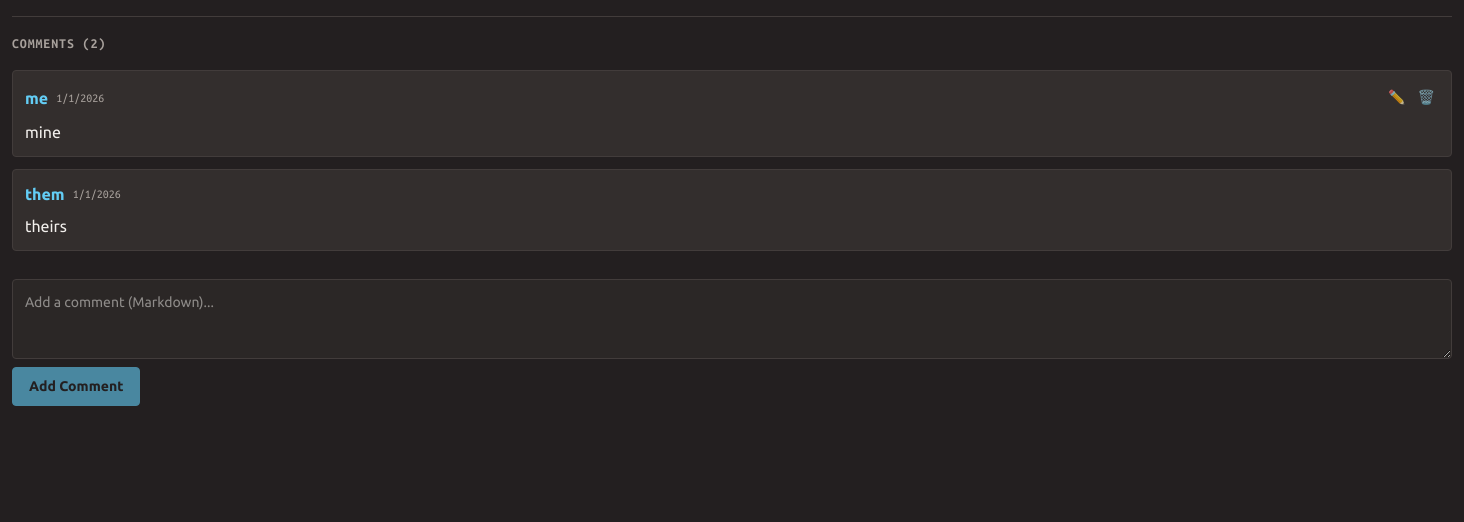
Test: Comments › adds a created comment to the list and tells the parent
Step 1. Type " hello " into the text box with placeholder "Add a comment (Markdown)..." → (732, 319), box x1=12 y1=279 x2=1452 y2=359
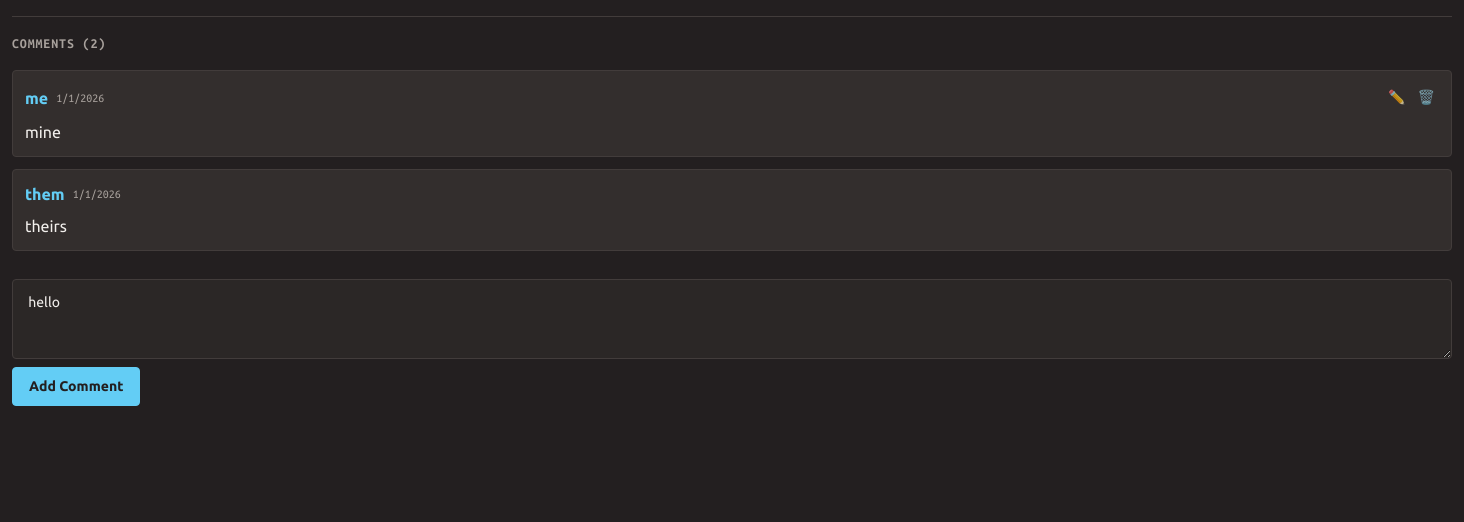
Step 2. Click the button "Add Comment" → (76, 386), box x1=12 y1=367 x2=140 y2=406
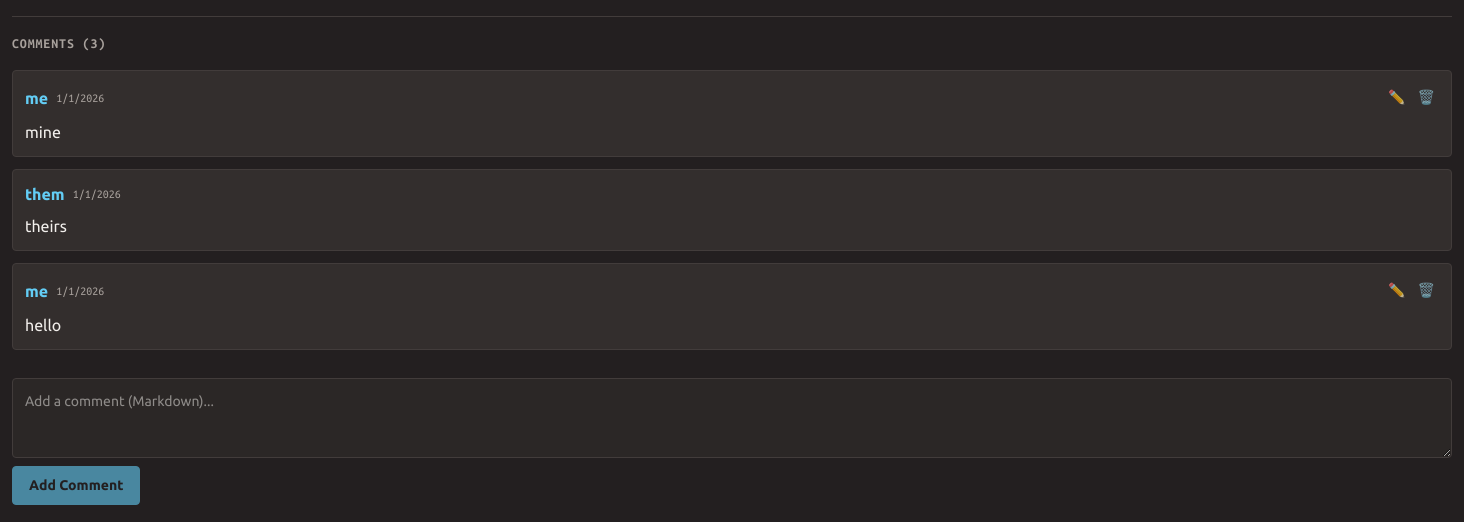
Expected: the text "hello" is shown, x1=25 y1=316 x2=61 y2=334
